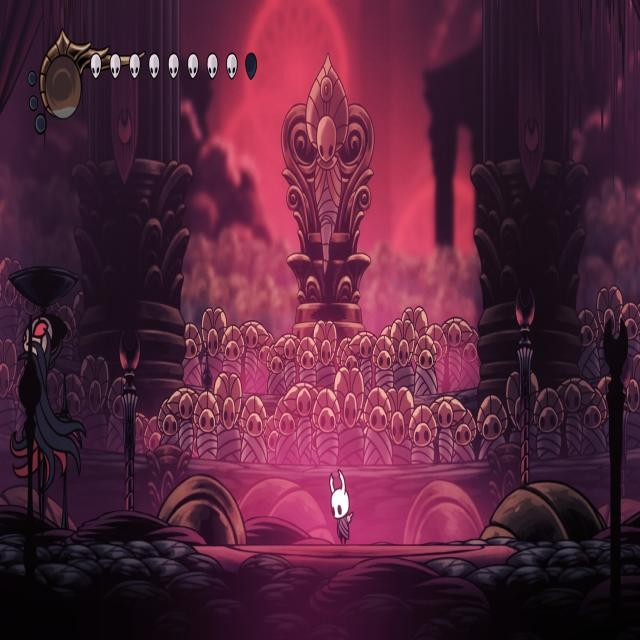Grimm: (7, 314, 84, 534)
Player: (330, 464, 357, 544)
